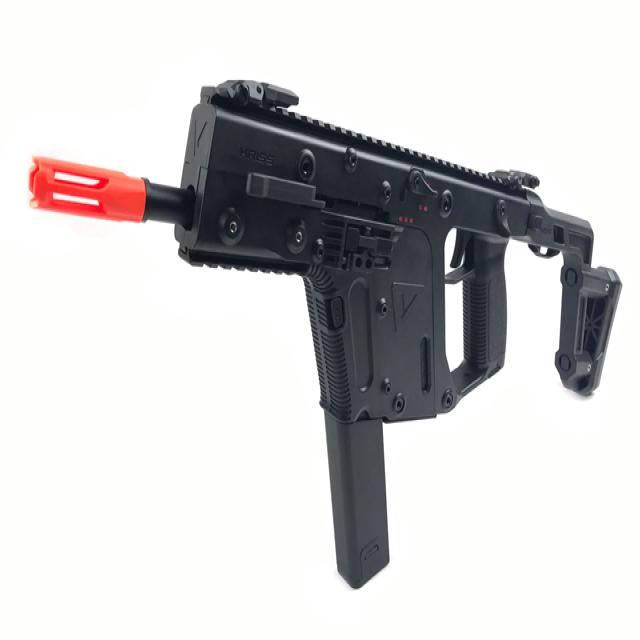SMG: (30, 80, 624, 591)
